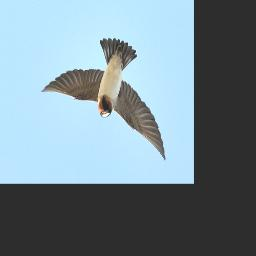Swallow: (41, 38, 167, 162)
